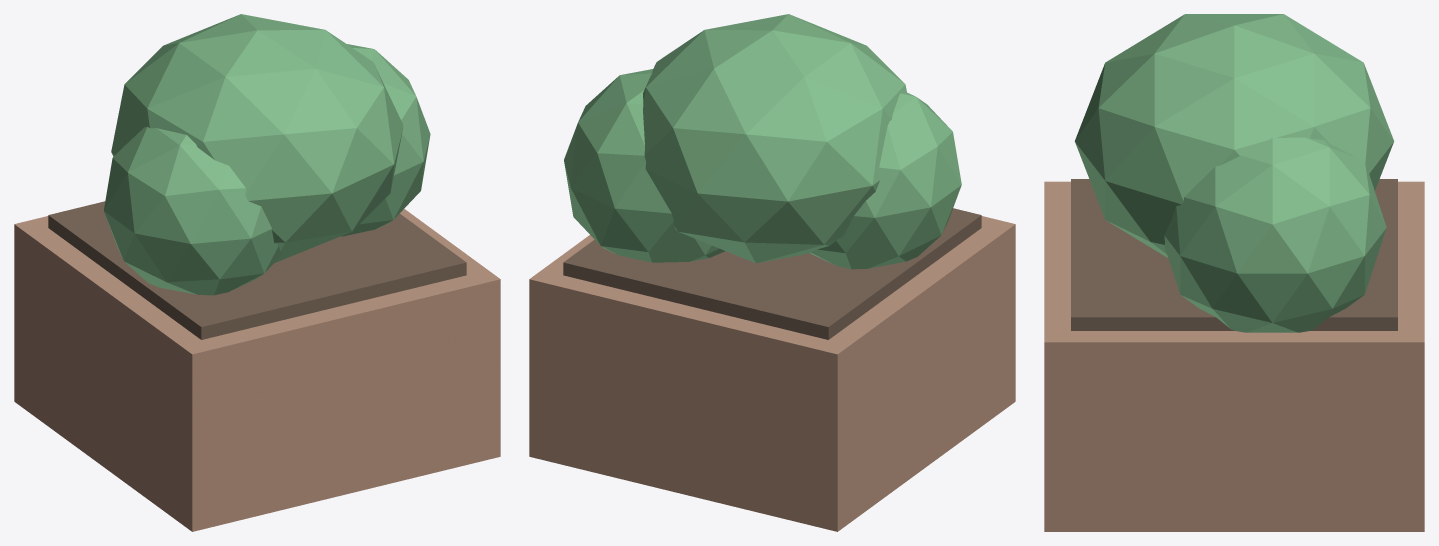
File: planter.glb
3 renders of one model, left to right at view 1: azimuth 30°, elevation 25°; view 2: azimuth 150°, elevation 25°; view 3: azimuth 270°, elevation 25°, orthographic. The views are drawn at different scales.
Parts seen in each view (by area): view 1: planter; view 2: planter; view 3: planter.
Boxes of the visible parts, x1=… form: planter: x1=14, y1=14, x2=500, y2=531; planter: x1=529, y1=14, x2=1015, y2=531; planter: x1=1044, y1=14, x2=1424, y2=531.
Bounding box in the file's own units: 1.07 × 1.24 × 1.
